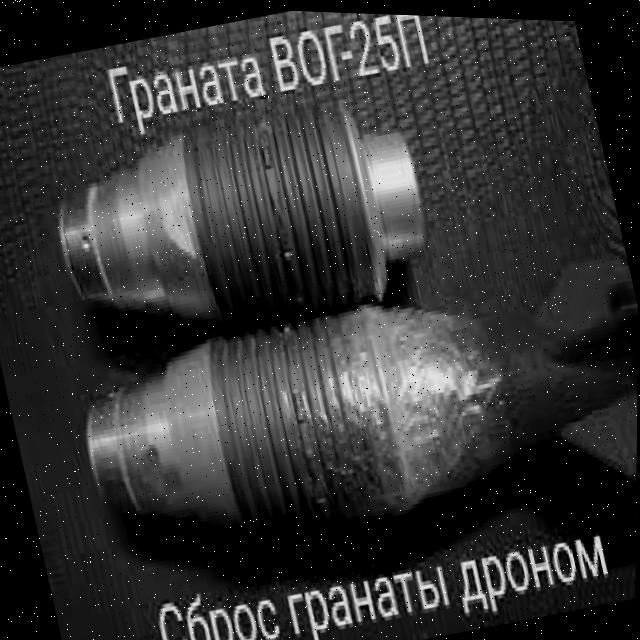grenade: (61, 219, 639, 614), (37, 72, 446, 373)
